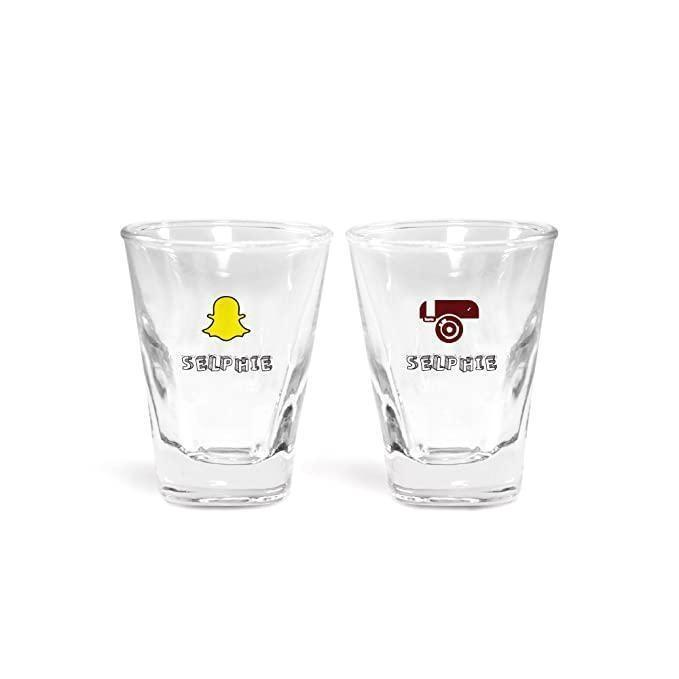glass-normal: (341, 216, 562, 512), (117, 216, 334, 512)
